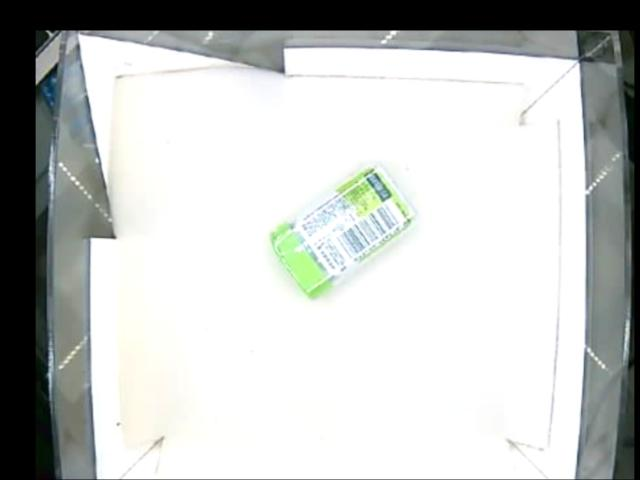Bottle: (270, 166, 418, 299)
